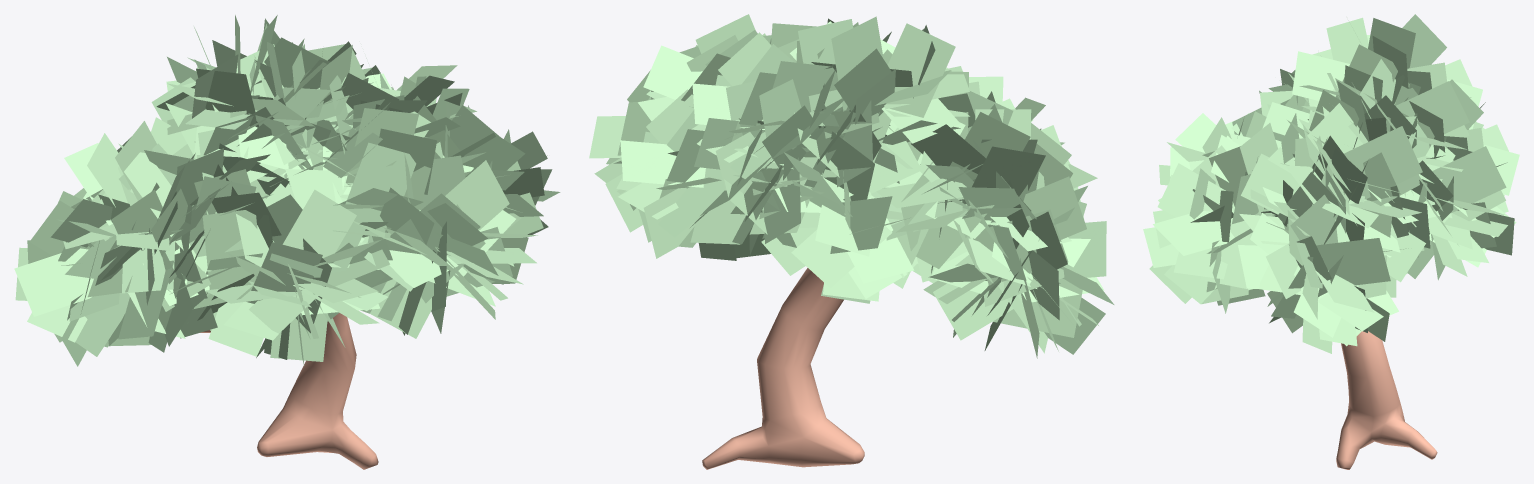
Rendered from tree_07.fbx.
3 renders of one model, left to right at view 1: azimuth 30°, elevation 25°; view 2: azimuth 150°, elevation 25°; view 3: azimuth 270°, elevation 25°, orthographic. The views are drawn at different scales.
Visible parts, largest first — view 1: Tree_07; view 2: Tree_07; view 3: Tree_07.
Boxes of the visible parts, x1,y1,x2,y2 form: Tree_07: (14,15,560,469); Tree_07: (589,14,1114,469); Tree_07: (1143,14,1519,469).
Size of the model in its own units: 893 by 772 by 652.
